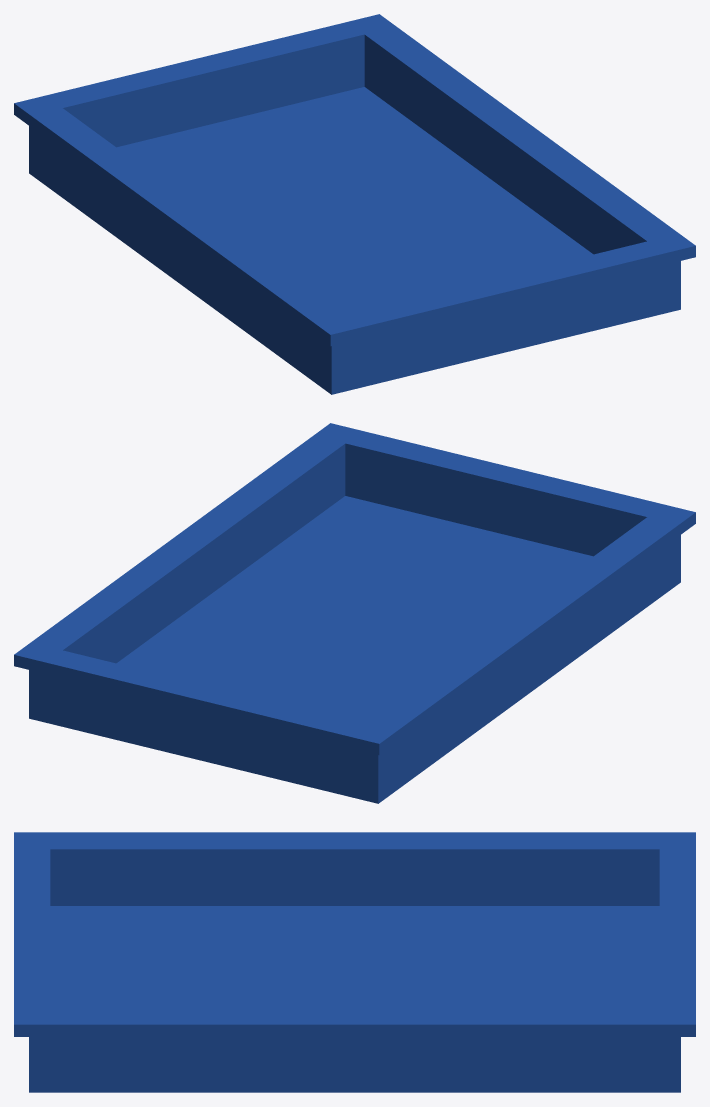
File: medicalTray.fbx
3 renders of one model, top to bottom at view 1: azimuth 30°, elevation 25°; view 2: azimuth 150°, elevation 25°; view 3: azimuth 270°, elevation 25°, orthographic. The views are drawn at different scales.
Parts seen in each view (by area): view 1: Cube; view 2: Cube; view 3: Cube.
Part boxes in pixels (x1,y1,x2,y2): Cube: [14, 14, 695, 394]; Cube: [14, 423, 695, 803]; Cube: [14, 832, 695, 1092].
Bounding box in the file's own units: 105 × 18.31 × 157.
